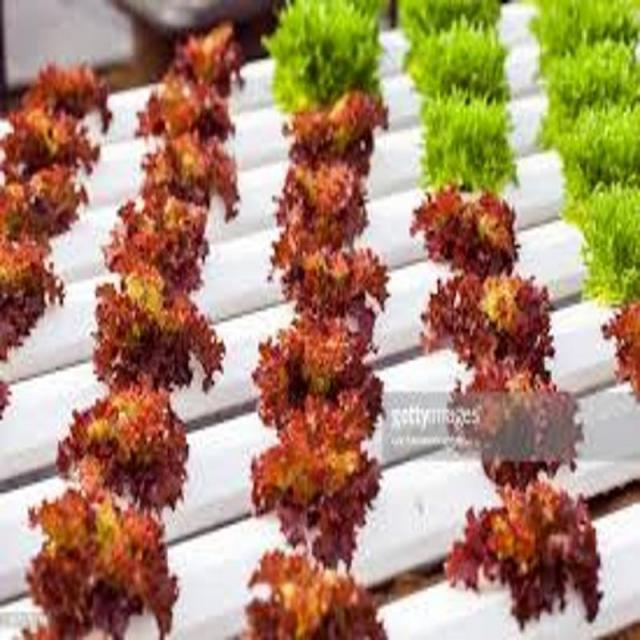Lettuce: (438, 475, 608, 628), (21, 483, 179, 640), (252, 400, 385, 563), (447, 353, 583, 507), (250, 302, 387, 448), (50, 376, 188, 516), (86, 262, 226, 395), (424, 266, 558, 396), (265, 0, 386, 118), (244, 545, 394, 640), (102, 180, 210, 303), (278, 225, 392, 332), (412, 178, 525, 284), (422, 82, 523, 196), (405, 17, 523, 112), (546, 101, 640, 213), (538, 38, 640, 141), (566, 175, 640, 310), (140, 132, 243, 222), (283, 95, 390, 180), (0, 90, 100, 177), (0, 225, 63, 356), (133, 65, 235, 145), (528, 1, 640, 69), (0, 161, 88, 245), (278, 162, 367, 245), (398, 0, 508, 55), (35, 58, 115, 130), (178, 25, 250, 95)
